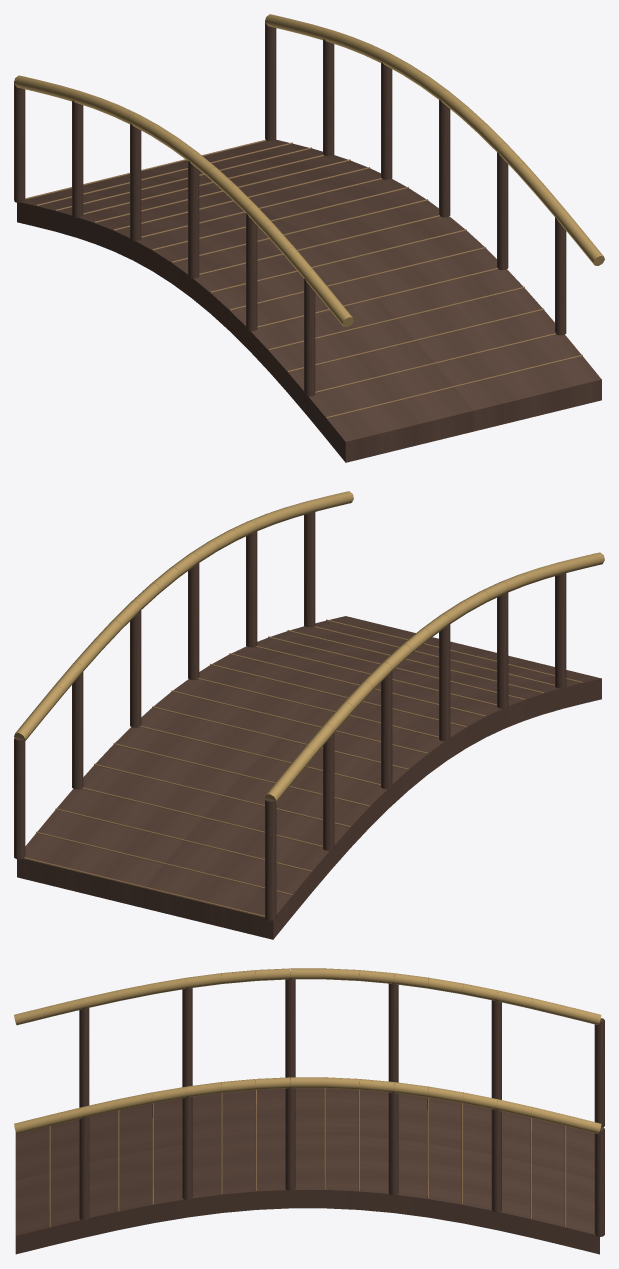
The model's file is bridge-wooden.glb.
3 views of the same model, one above another, from view 1: azimuth 30°, elevation 25°; view 2: azimuth 150°, elevation 25°; view 3: azimuth 270°, elevation 25° (orthographic). The views are drawn at different scales.
Parts seen in each view (by area): view 1: bridge-wooden_wood, bridge-wooden_gold, bridge-wooden_barkLight; view 2: bridge-wooden_wood, bridge-wooden_gold, bridge-wooden_barkLight; view 3: bridge-wooden_wood, bridge-wooden_gold, bridge-wooden_barkLight.
Boxes of the visible parts, x1,y1,x2,y2 form: bridge-wooden_wood: (14,20,601,462); bridge-wooden_gold: (14,14,604,327); bridge-wooden_barkLight: (25,139,582,418); bridge-wooden_wood: (14,510,601,939); bridge-wooden_gold: (14,491,604,802); bridge-wooden_barkLight: (24,619,582,917); bridge-wooden_wood: (15,978,604,1254); bridge-wooden_gold: (14,968,601,1133); bridge-wooden_barkLight: (49,1088,566,1227).
Size of the model in its own units: 1.84 by 1.33 by 4.05.
Materials: 3 (1 with a texture image).
